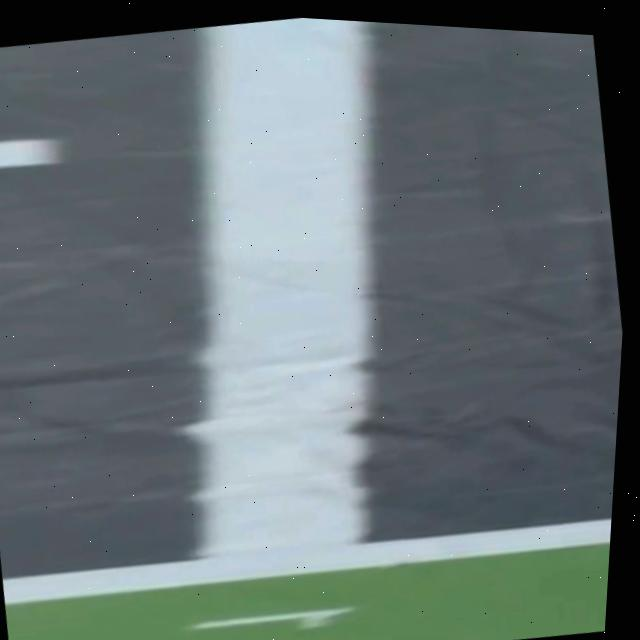center: (0, 137, 61, 166)
right: (2, 518, 612, 603)
